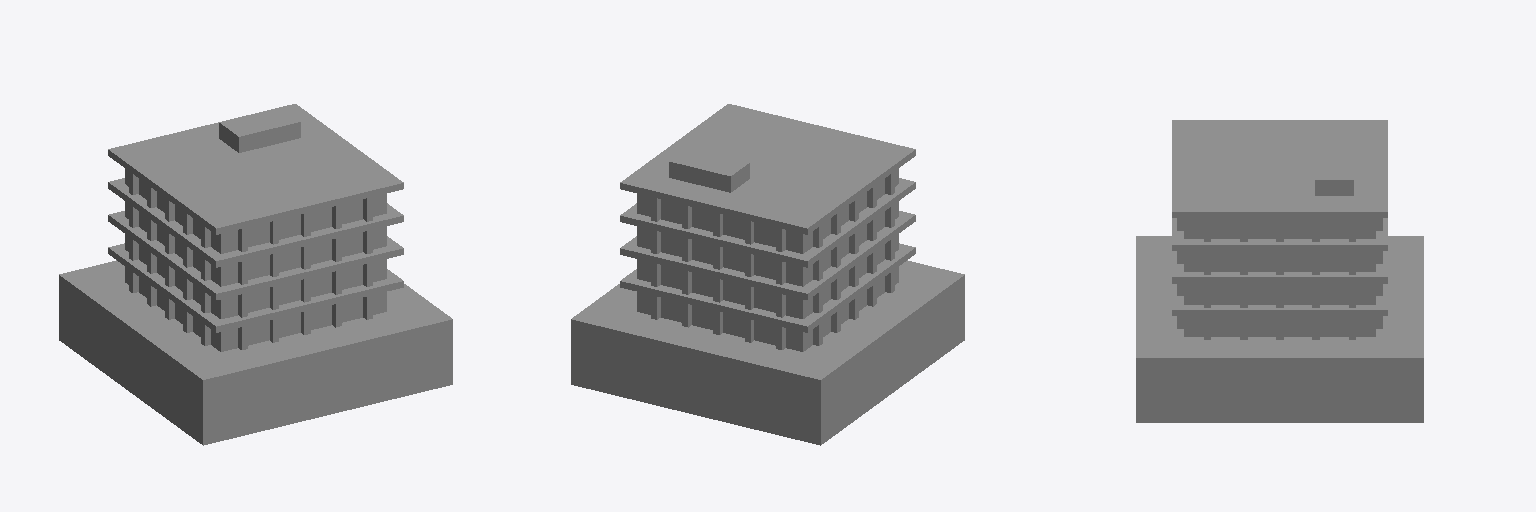
Rendered from building.obj.
3 views of the same model, side by side, from view 1: azimuth 30°, elevation 25°; view 2: azimuth 150°, elevation 25°; view 3: azimuth 270°, elevation 25° (orthographic).
Parts seen in each view (by area): view 1: building-office-small_Cube.130; view 2: building-office-small_Cube.130; view 3: building-office-small_Cube.130.
Boxes of the visible parts, box(x1,y1,x2,y2) form: building-office-small_Cube.130: box(59, 104, 452, 445); building-office-small_Cube.130: box(571, 104, 964, 445); building-office-small_Cube.130: box(1136, 120, 1423, 422).
Size of the model in its own units: 8 by 6.5 by 8.